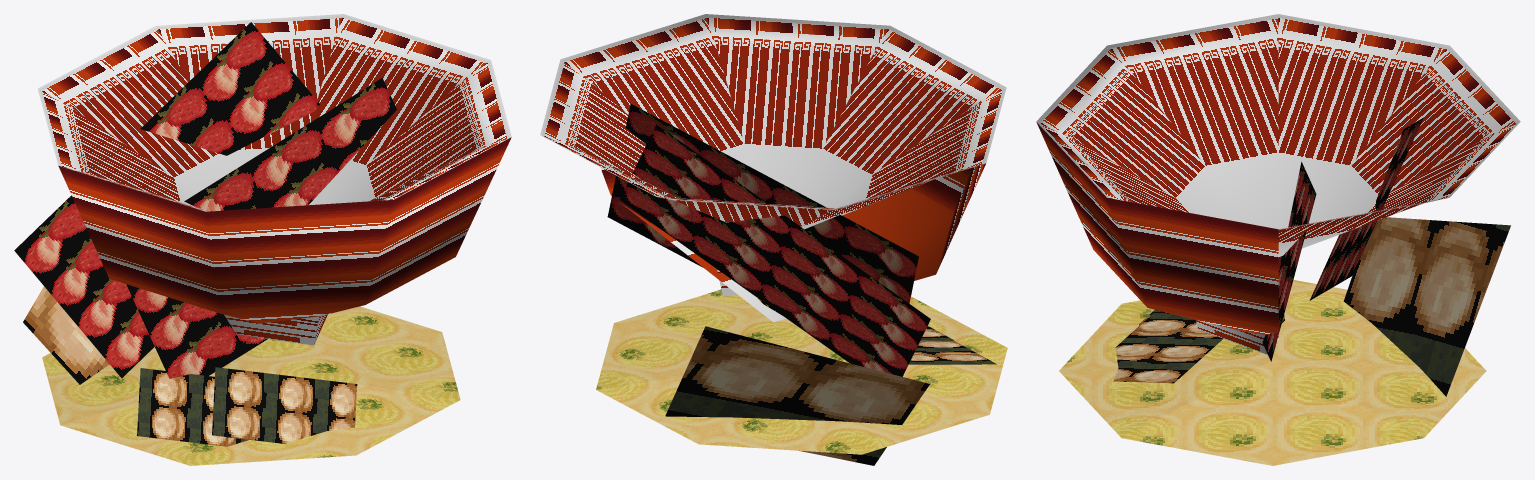
Rendered from 5534u_ramn03_hl.gltf.
3 views of the same model, side by side, from view 1: azimuth 30°, elevation 25°; view 2: azimuth 150°, elevation 25°; view 3: azimuth 270°, elevation 25° (orthographic). The views are drawn at different scales.
Parts seen in each view (by area): view 1: 5534u_ramn03_hl; view 2: 5534u_ramn03_hl; view 3: 5534u_ramn03_hl.
Part boxes in pixels (bbox=[...]): 5534u_ramn03_hl: bbox=[14, 14, 511, 465]; 5534u_ramn03_hl: bbox=[540, 14, 1007, 465]; 5534u_ramn03_hl: bbox=[1036, 14, 1520, 465].
Size of the model in its own units: 0.7812 by 0.5945 by 0.7417.
Materials: 5 (5 with a texture image).
